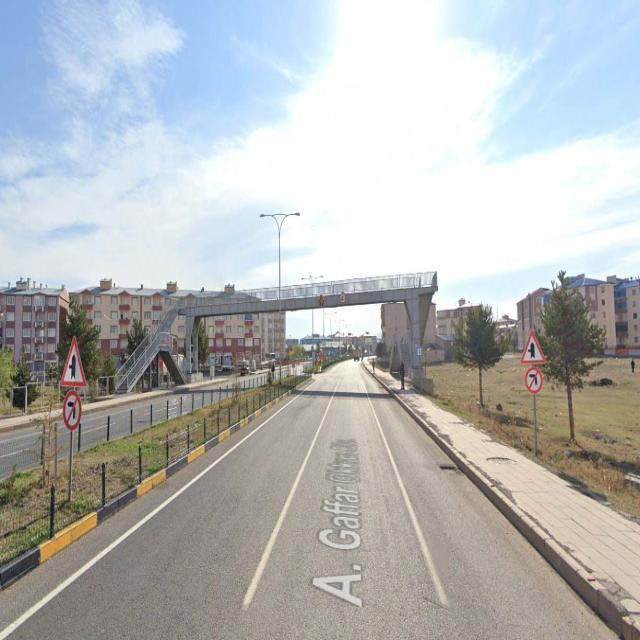soladonulmez: (64, 392, 81, 430), (525, 367, 543, 394)
